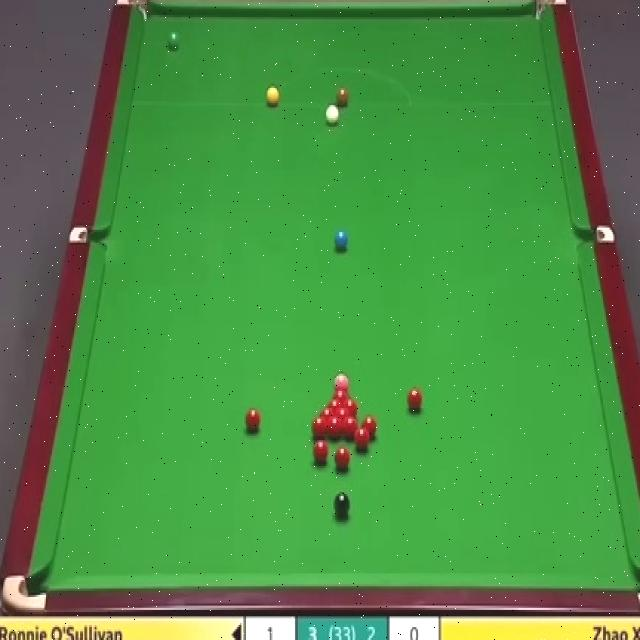black-ball: (334, 492, 351, 519)
blue-ball: (334, 230, 348, 250)
brown-ball: (336, 87, 350, 107)
green-ball: (167, 33, 179, 52)
pink-ball: (334, 371, 348, 385)
red-ball: (244, 408, 262, 435), (334, 446, 351, 471), (313, 440, 330, 464), (310, 415, 327, 439), (407, 388, 422, 413), (354, 428, 369, 452), (343, 416, 358, 440), (362, 415, 376, 440), (327, 414, 341, 438), (344, 397, 358, 414), (330, 386, 349, 397), (334, 407, 351, 416), (319, 407, 334, 417), (327, 398, 342, 408)
white-ball: (324, 105, 338, 126)
yellow-ball: (265, 86, 279, 106)
